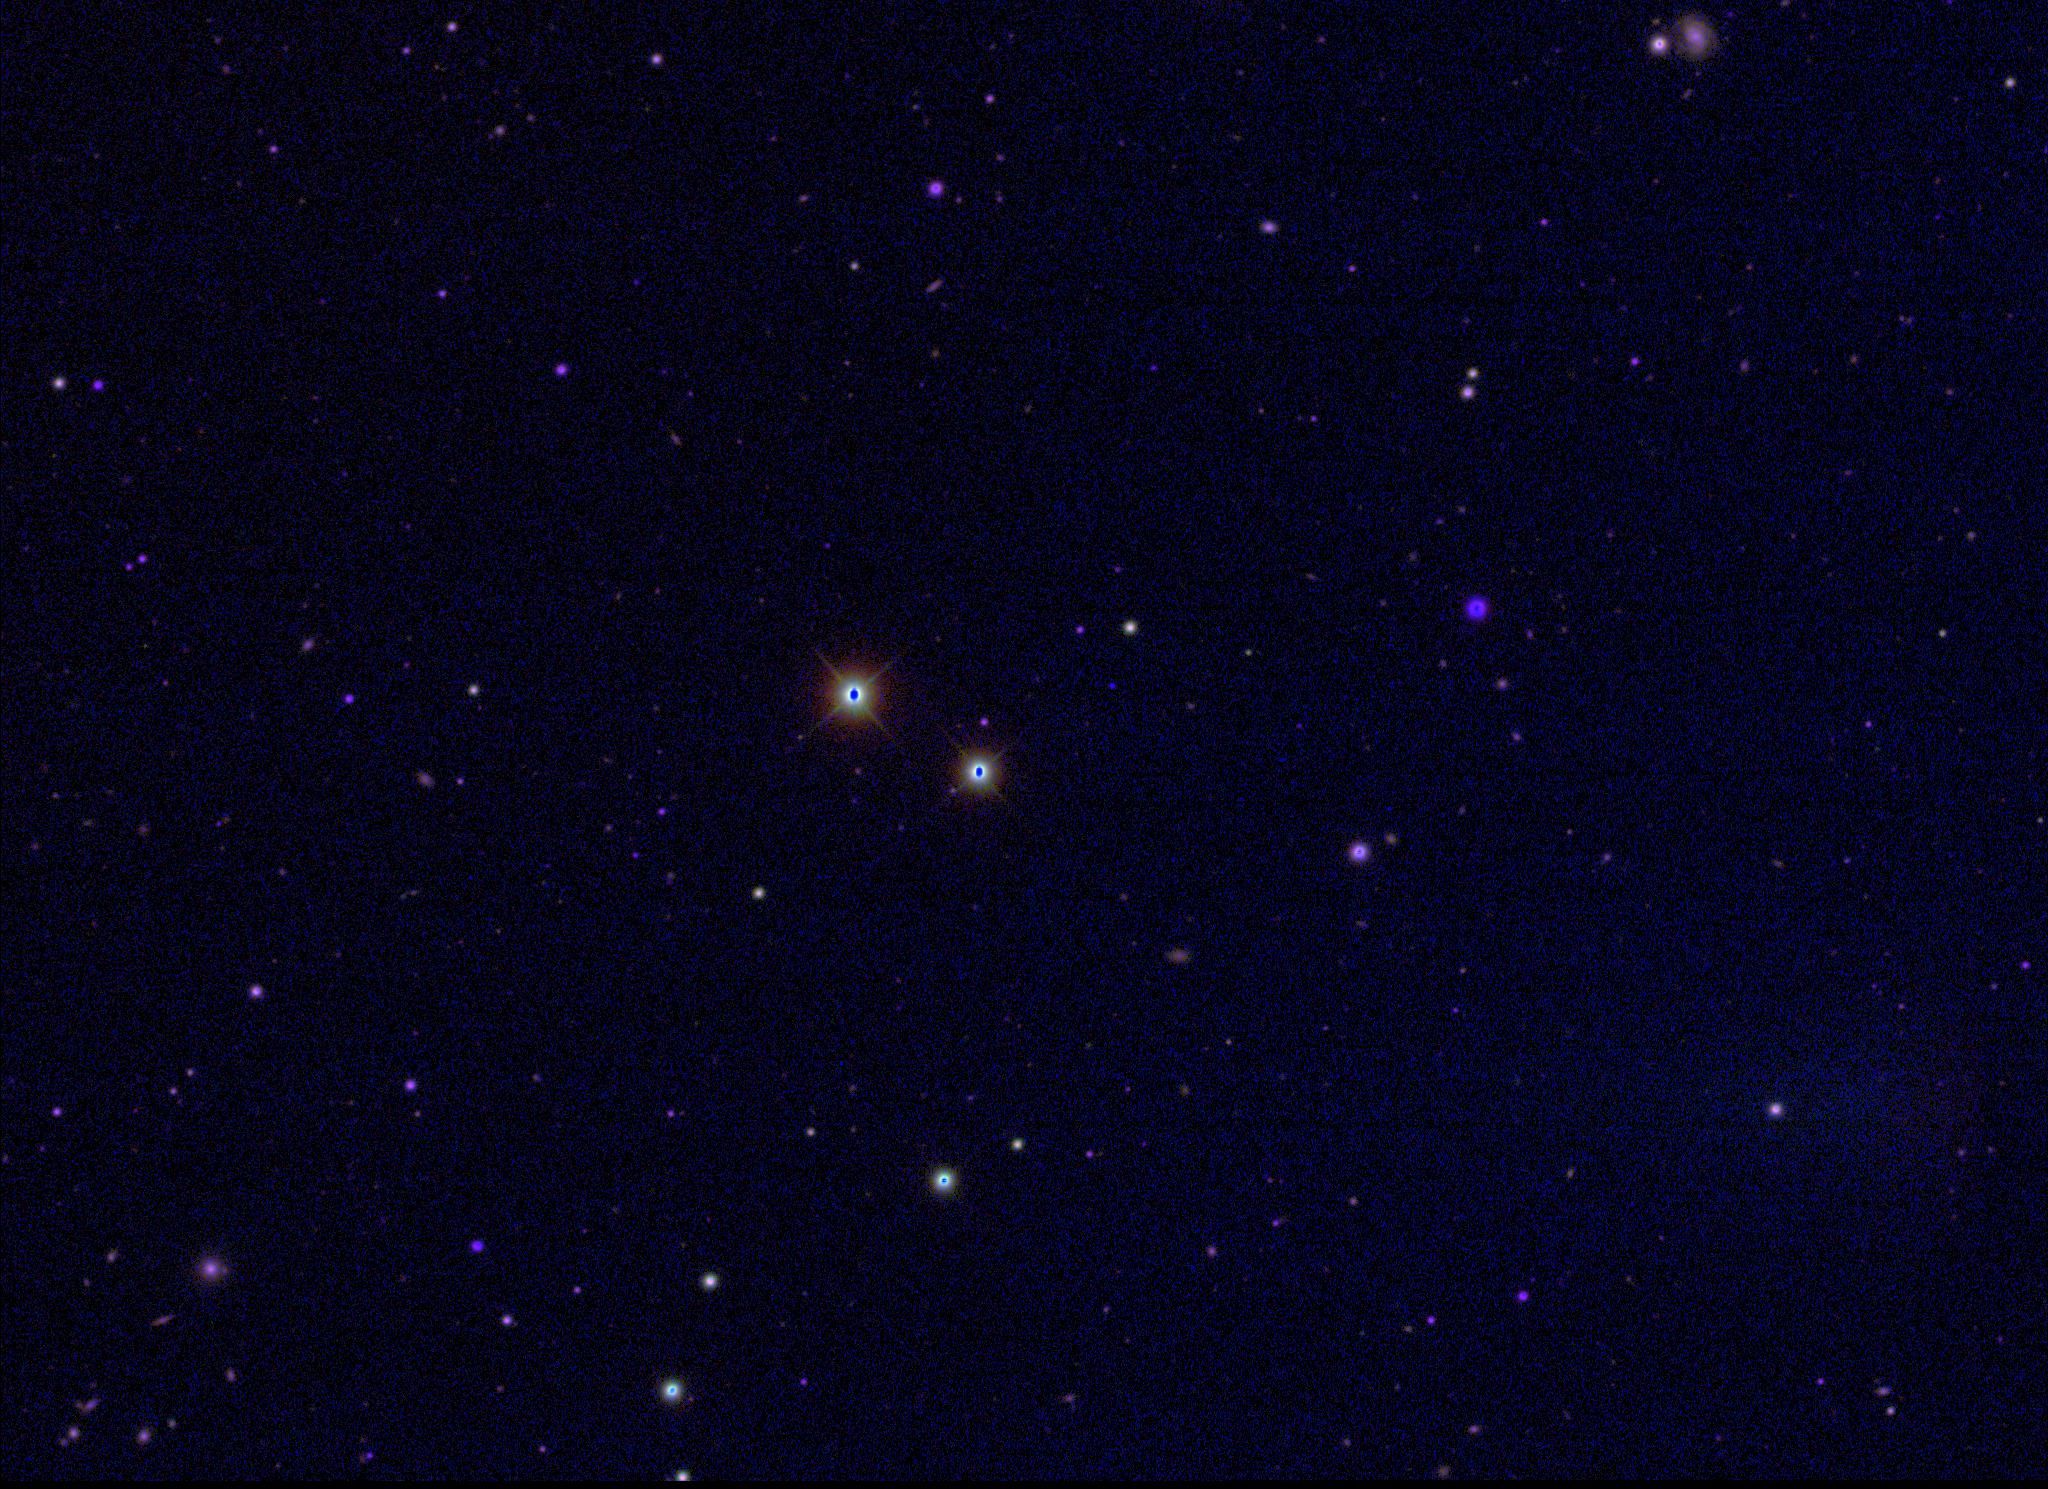L: (1105, 679, 1119, 694)
